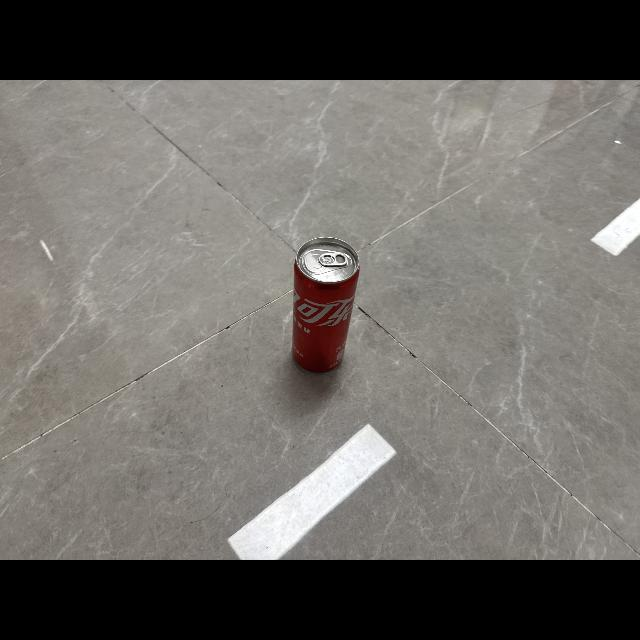Cola: (286, 232, 366, 380)
